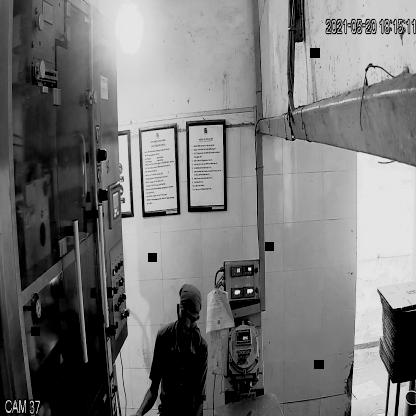goggles: (177, 303, 199, 331)
